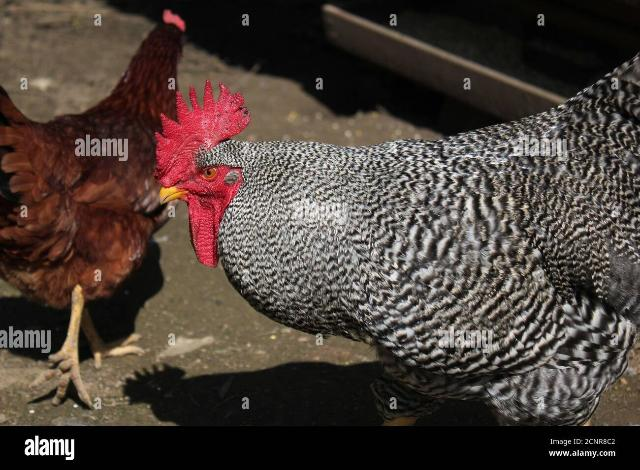Chicken: (154, 54, 640, 426), (0, 8, 185, 410)
